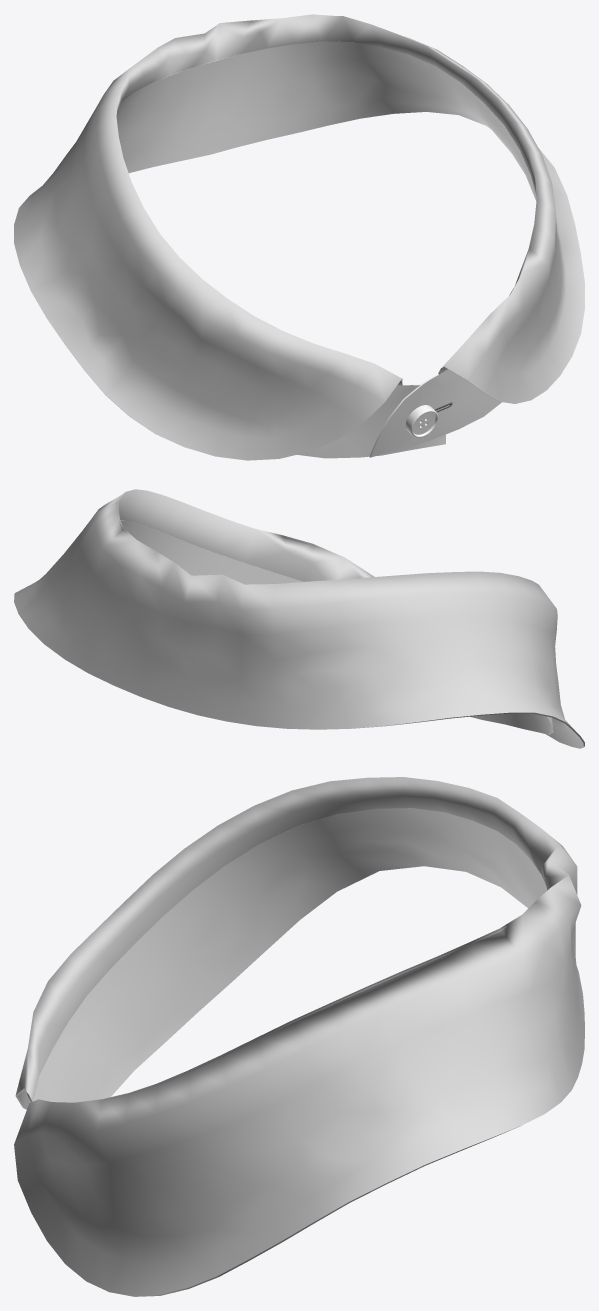
The model's file is collar-2.glb.
3 renders of one model, top to bottom at view 1: azimuth 30°, elevation 25°; view 2: azimuth 150°, elevation 25°; view 3: azimuth 270°, elevation 25°, orthographic. The views are drawn at different scales.
Parts seen in each view (by area): view 1: Collar_Node, Collar_Stand_Node, MatShape_439261_Node; view 2: Collar_Node, Collar_Stand_Node; view 3: Collar_Node, Collar_Stand_Node.
Boxes of the visible parts, x1,y1,x2,y2 form: Collar_Node: (14,14,584,460); Collar_Stand_Node: (116,41,536,458); MatShape_439261_Node: (405,405,438,437); Collar_Node: (14,489,584,748); Collar_Stand_Node: (121,520,553,734); Collar_Node: (14,777,584,1296); Collar_Stand_Node: (33,808,547,1102).
Bounding box in the file's own units: 0.1799 × 0.0931 × 0.1358.
Materials: 4 (1 with a texture image).
